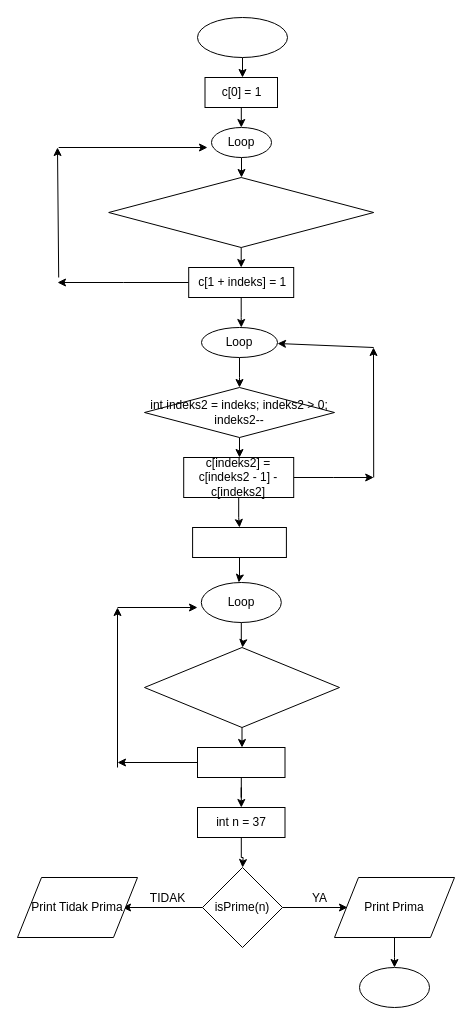
The diagram is 472 pixels wide and 1025 high, and some of its shapes have lost their labels. Here are the shapes that lost their labels. From the top down, the box of each, then its label:
(196, 16, 288, 58): Mulai
(108, 176, 374, 248): int indeks = 0; indeks < angka; c[0] = -c[0], indeks++
(192, 526, 286, 558): int i = n
(144, 646, 340, 728): (i--) > 0 && c[i] % n == 0)
(196, 746, 285, 778): i < 0
(358, 966, 430, 1008): Selesai
